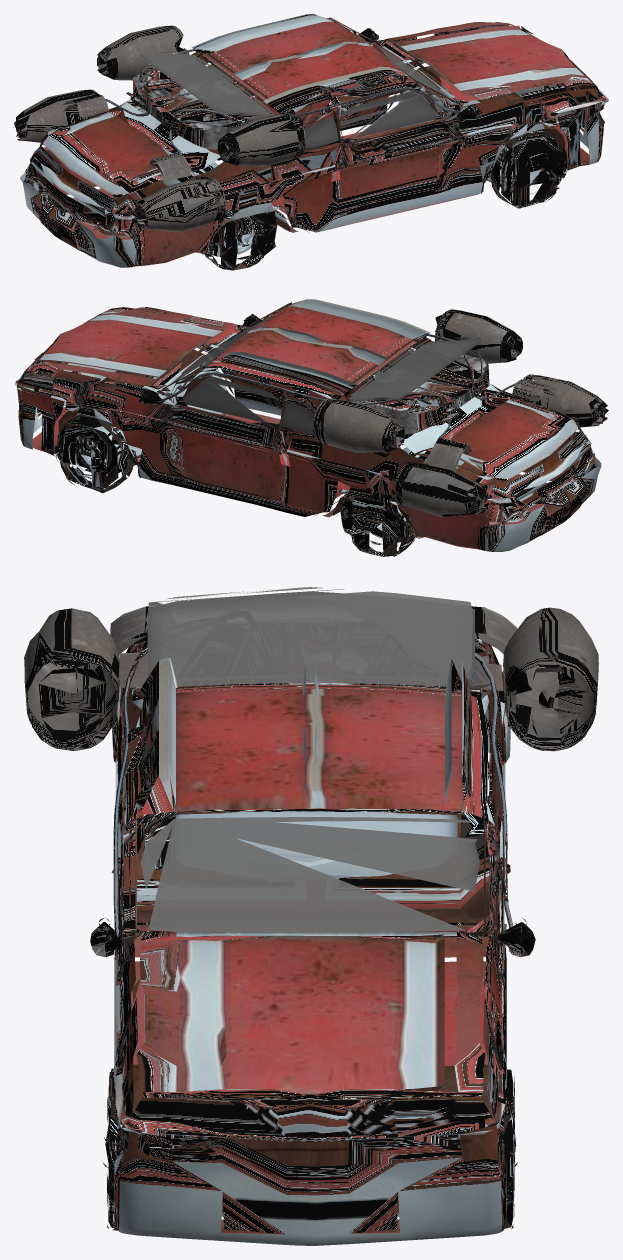
3 renders of one model, top to bottom at view 1: azimuth 30°, elevation 25°; view 2: azimuth 150°, elevation 25°; view 3: azimuth 270°, elevation 25°, orthographic. The views are drawn at different scales.
Parts seen in each view (by area): view 1: Cube, Cylinder.003, Cube.006, Cylinder.008, Cube.009, NurbsPath.002, Torus.002; view 2: Cube, Cylinder.003, Cylinder.008, Cube.006, Cube.009, NurbsPath.002, Torus.002; view 3: Cube, Cube.006, Cylinder.003, Torus.002, Cylinder.008, NurbsPath.002.
Part boxes in pixels (x1,y1,x2,y2): Cube: [20, 14, 608, 267]; Cylinder.003: [14, 25, 482, 232]; Cube.006: [140, 33, 455, 148]; Cylinder.008: [160, 66, 567, 270]; Cube.009: [126, 59, 273, 149]; NurbsPath.002: [105, 48, 461, 154]; Torus.002: [160, 87, 545, 254]; Cube: [14, 299, 601, 551]; Cylinder.003: [138, 309, 608, 517]; Cylinder.008: [54, 353, 415, 556]; Cube.006: [166, 314, 480, 433]; Cube.009: [347, 344, 489, 434]; NurbsPath.002: [163, 334, 519, 439]; Torus.002: [72, 371, 464, 538]; Cube: [111, 639, 510, 1245]; Cube.006: [139, 587, 493, 932]; Cylinder.003: [24, 606, 598, 957]; Torus.002: [175, 810, 457, 1216]; Cylinder.008: [102, 795, 517, 1230]; NurbsPath.002: [113, 640, 512, 936].
Size of the model in its own units: 5 by 1.54 by 2.38.
5 materials, 5 textured.
